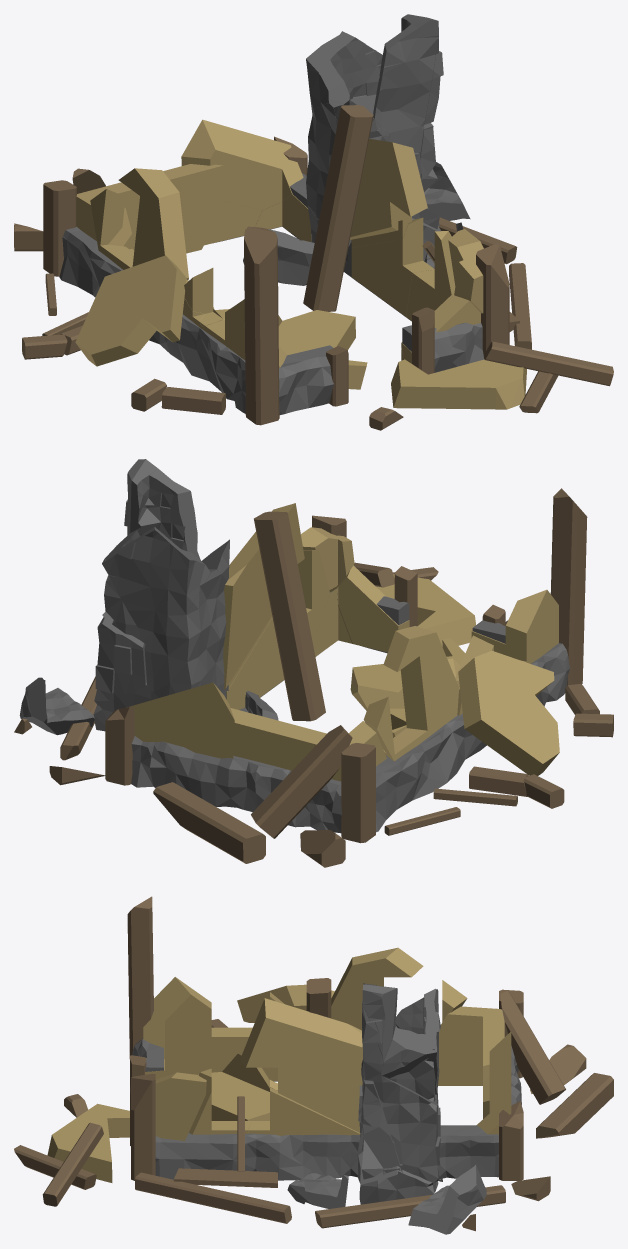
Rendered from Ruins 4.fbx.
The picture shows the model from 3 angles, top to bottom: view 1: azimuth 30°, elevation 25°; view 2: azimuth 150°, elevation 25°; view 3: azimuth 270°, elevation 25°; orthographic projection. The views are drawn at different scales.
Visible parts, largest first — view 1: House ruins 4; view 2: House ruins 4; view 3: House ruins 4.
Boxes of the visible parts, x1,y1,x2,y2 form: House ruins 4: (14, 14, 613, 430); House ruins 4: (14, 459, 613, 867); House ruins 4: (14, 896, 613, 1234).
Bounding box in the file's own units: 7.44 × 3.53 × 8.75.
